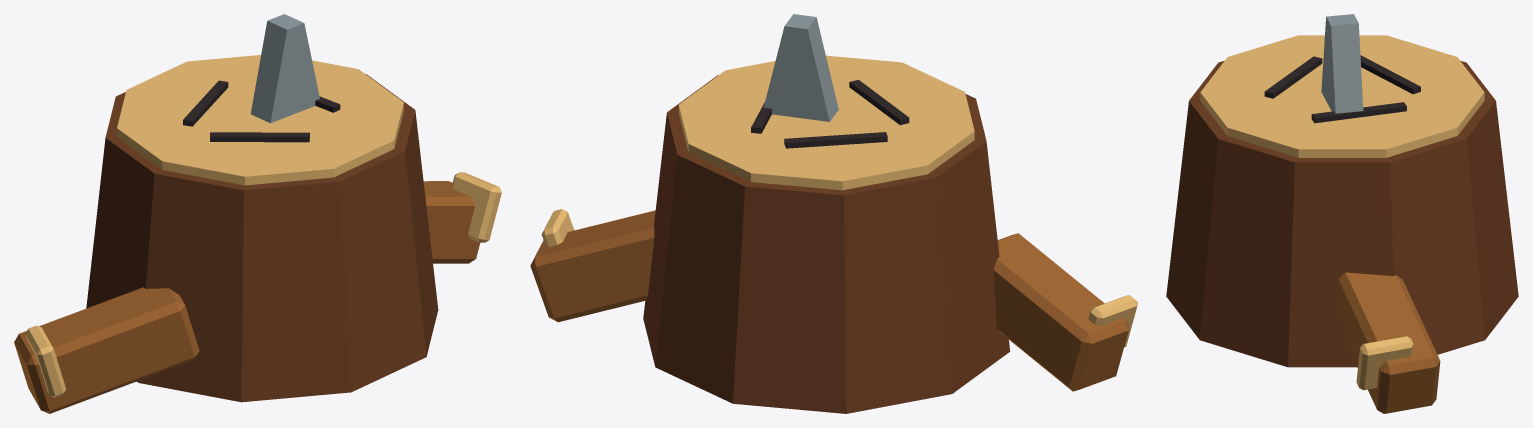
The model's file is station_woodcutting_block.glb.
3 views of the same model, side by side, from view 1: azimuth 30°, elevation 25°; view 2: azimuth 150°, elevation 25°; view 3: azimuth 270°, elevation 25° (orthographic). The views are drawn at different scales.
Visible parts, largest first — view 1: Chopping_Block, Block_Cut, Split_Wood_1, Splitting_Wedge, Split_Wood_2, Split_Face_2, Split_Face_1, Cut_Crack_3, Cut_Crack_2; view 2: Chopping_Block, Block_Cut, Split_Wood_1, Split_Wood_2, Splitting_Wedge, Cut_Crack_2, Split_Face_1, Cut_Crack_3, Split_Face_2; view 3: Chopping_Block, Block_Cut, Split_Wood_2, Splitting_Wedge, Split_Face_2, Cut_Crack_1, Cut_Crack_3, Cut_Crack_2.
Boxes of the visible parts, x1,y1,x2,y2 form: Chopping_Block: (86, 74, 438, 402); Block_Cut: (117, 55, 403, 185); Split_Wood_1: (14, 287, 199, 413); Splitting_Wedge: (250, 14, 319, 123); Split_Wood_2: (423, 181, 480, 263); Split_Face_2: (451, 172, 501, 242); Split_Face_1: (25, 325, 66, 397); Cut_Crack_3: (210, 132, 309, 142); Cut_Crack_2: (183, 80, 228, 126); Chopping_Block: (643, 75, 1010, 413); Block_Cut: (678, 55, 974, 190); Split_Wood_1: (993, 233, 1128, 391); Split_Wood_2: (530, 210, 655, 322); Splitting_Wedge: (763, 14, 838, 121); Cut_Crack_2: (784, 132, 887, 148); Split_Face_1: (1088, 295, 1137, 347); Cut_Crack_3: (849, 80, 909, 125); Split_Face_2: (541, 209, 574, 246); Chopping_Block: (1166, 60, 1518, 367); Block_Cut: (1200, 35, 1484, 157); Split_Wood_2: (1338, 272, 1440, 413); Splitting_Wedge: (1321, 14, 1363, 113); Split_Face_2: (1356, 336, 1413, 390); Cut_Crack_1: (1311, 102, 1406, 123); Cut_Crack_3: (1264, 56, 1322, 98); Cut_Crack_2: (1360, 55, 1420, 94).
Size of the model in its own units: 2.04 by 1.15 by 1.24.
